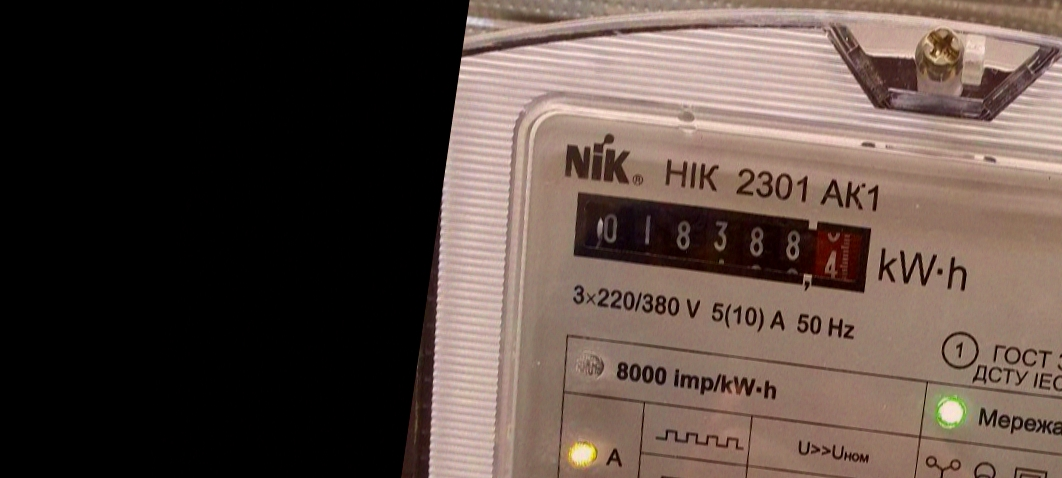0: (598, 209, 623, 248)
1: (636, 210, 659, 249)
3: (709, 218, 733, 256)
4: (819, 246, 844, 282)
8: (670, 216, 696, 255), (780, 227, 806, 265), (744, 224, 769, 262)
screen: (559, 177, 887, 311)
